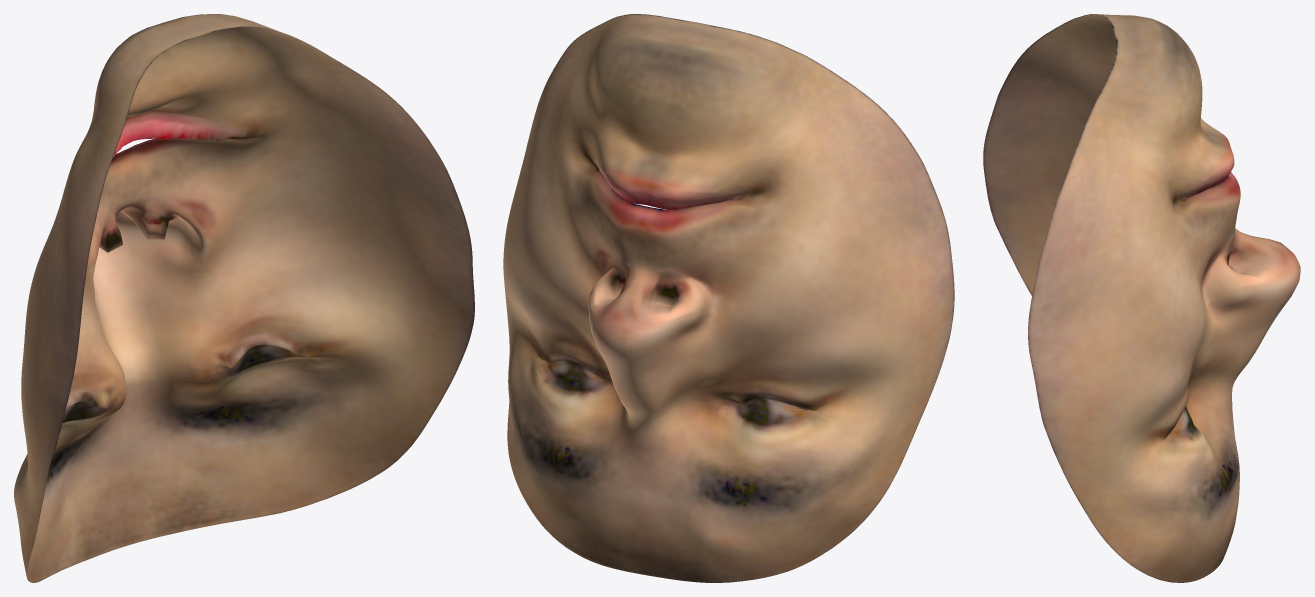
The model's file is NextFace.glb.
3 renders of one model, left to right at view 1: azimuth 30°, elevation 25°; view 2: azimuth 150°, elevation 25°; view 3: azimuth 270°, elevation 25°, orthographic. The views are drawn at different scales.
Visible parts, largest first — view 1: mesh0.007; view 2: mesh0.007; view 3: mesh0.007.
Part boxes in pixels (x1,y1,x2,y2): mesh0.007: (14,14,474,582); mesh0.007: (503,14,954,582); mesh0.007: (983,14,1300,582).
Size of the model in its own units: 0.8454 by 1 by 0.573.
1 material, 1 textured.
